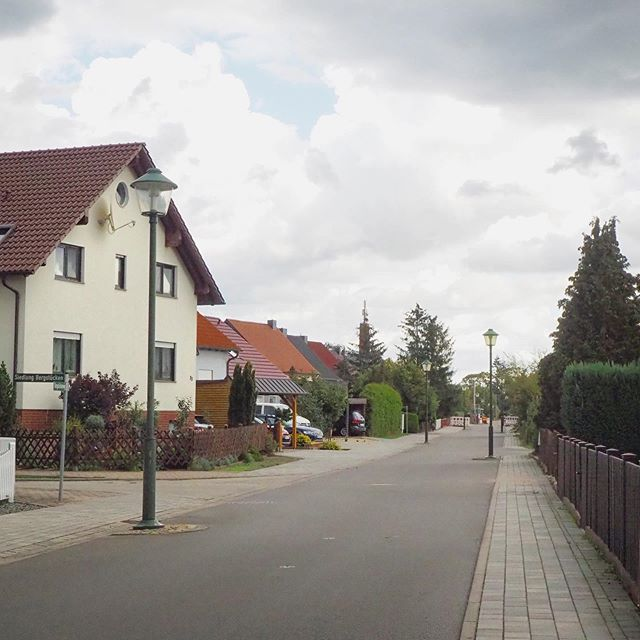building: (1, 148, 203, 454), (196, 329, 325, 442)
light pole: (114, 162, 188, 530), (472, 320, 510, 456)
sky: (17, 1, 640, 237)
tree: (541, 220, 640, 459), (389, 302, 456, 437)
